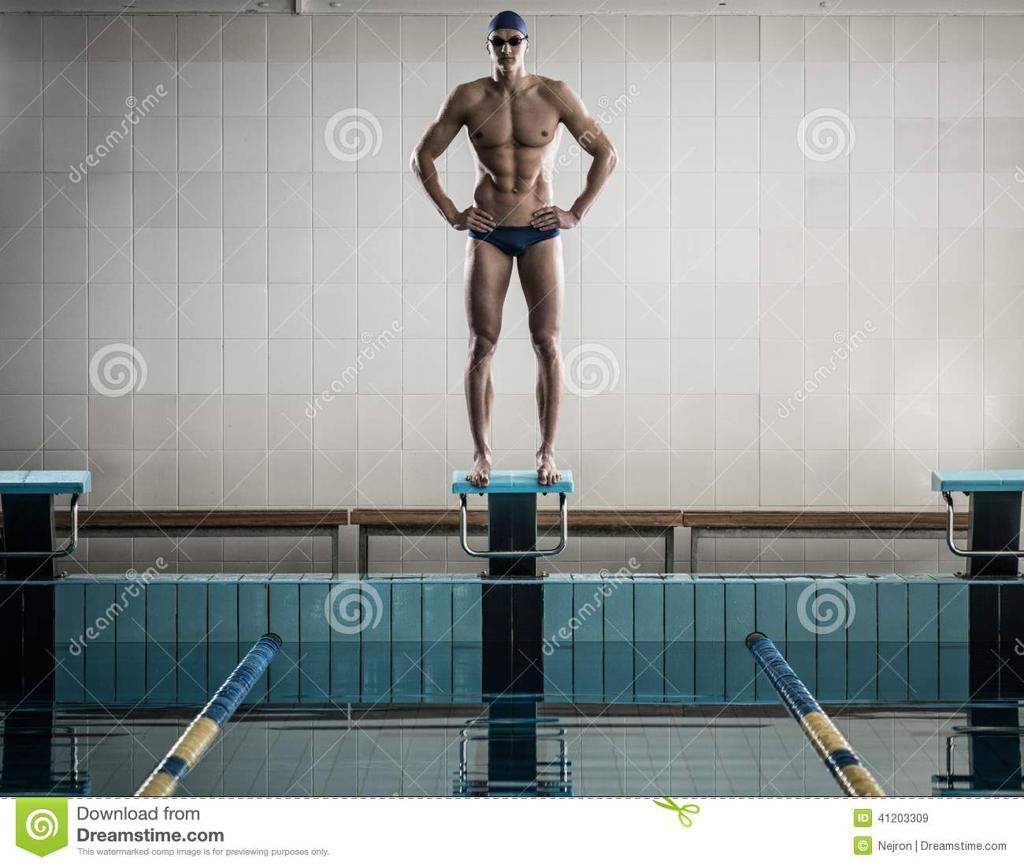face: (487, 25, 526, 71)
